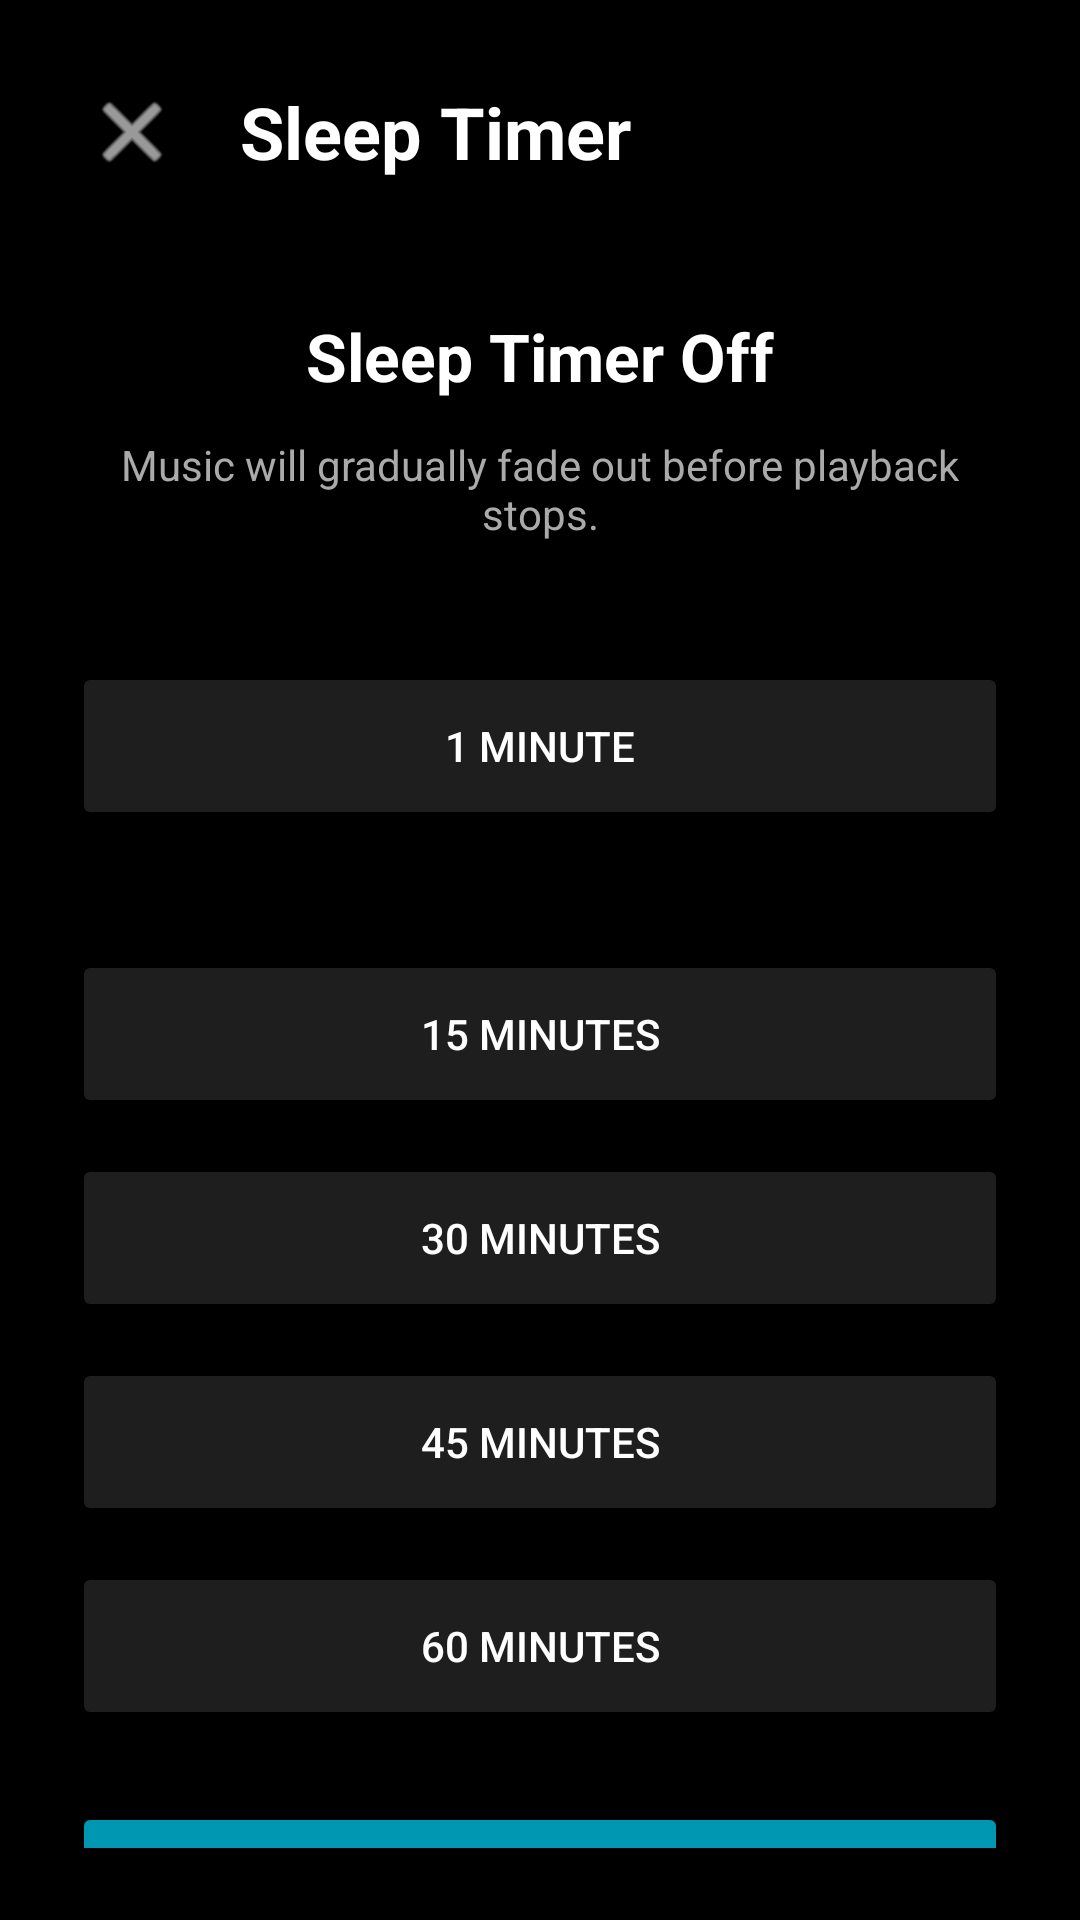

Named icons in this screenshot (1080x1920) and their bounding boxes, (x1, y1, x2, y2):
Close: (102, 102, 162, 162)
